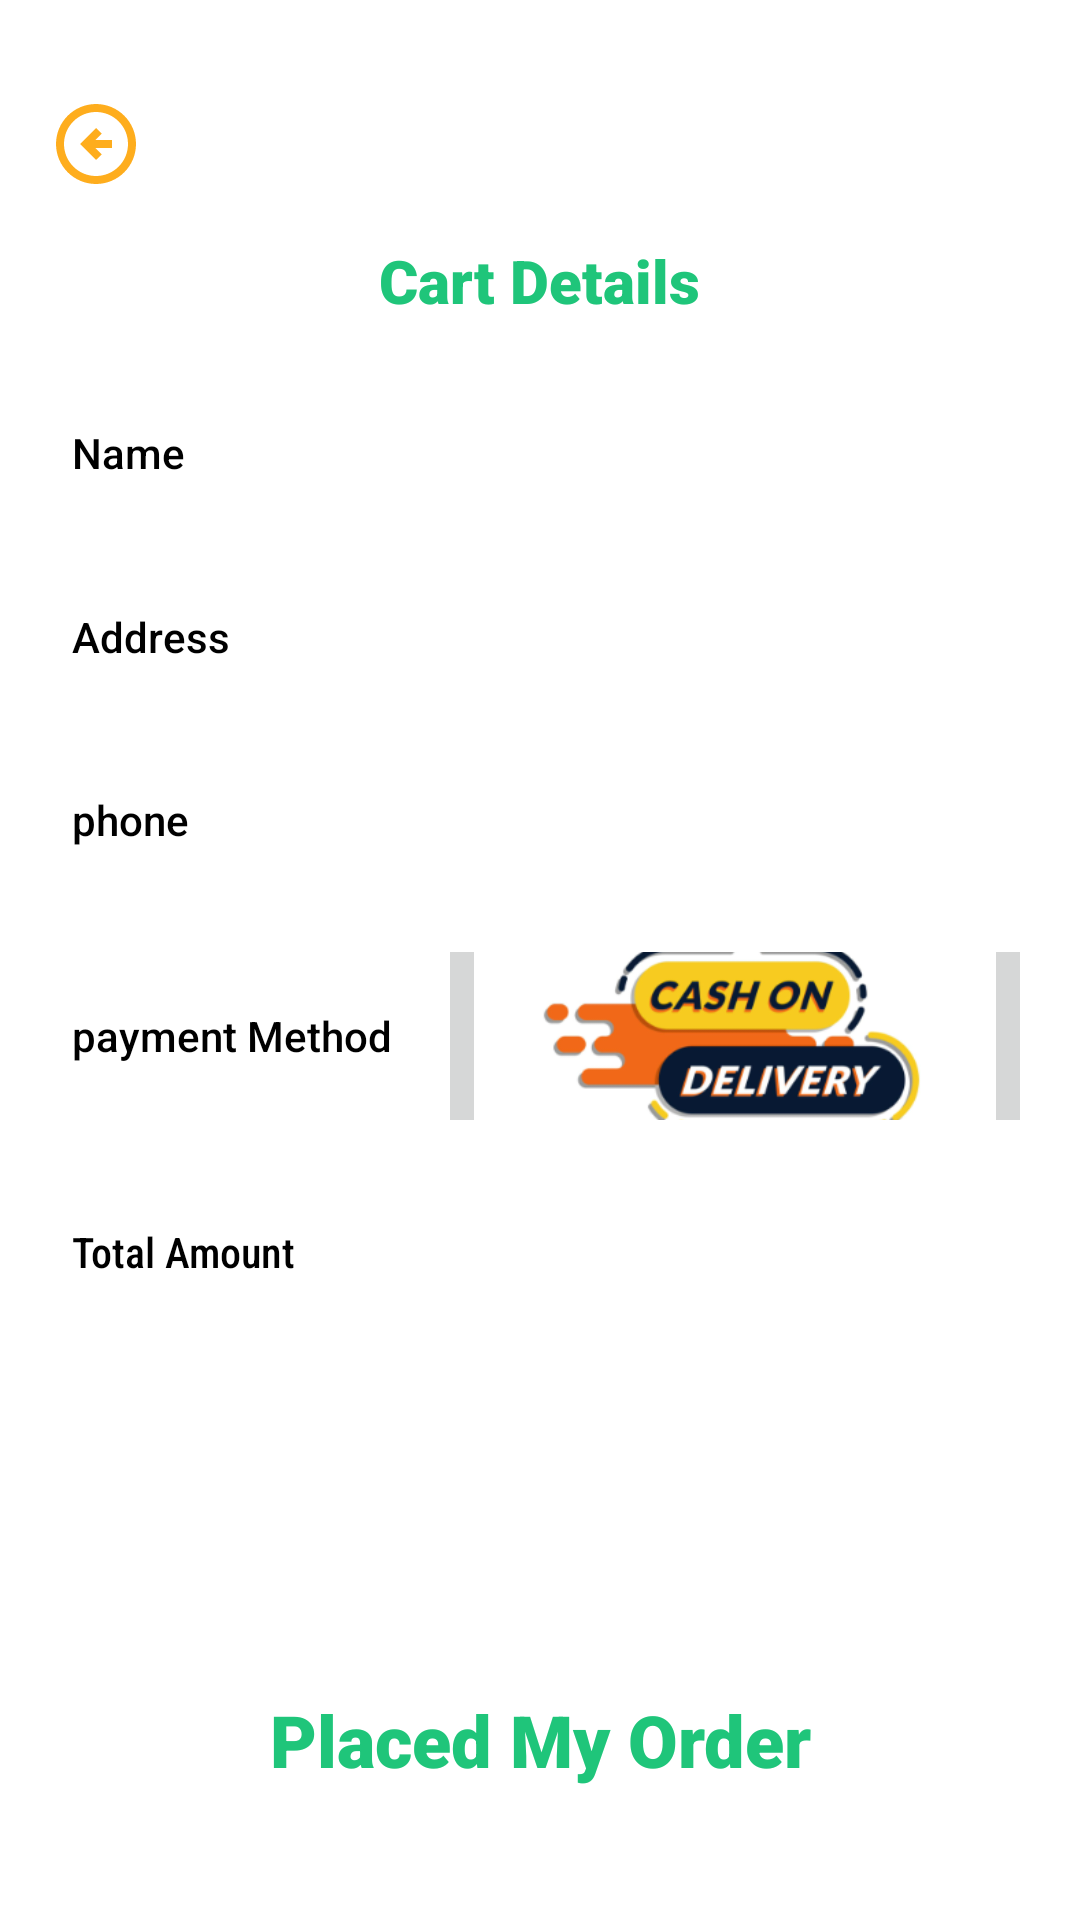

Icons on this 1080w x 1920h Android screen, each with the point to tap as point (x, y):
arrow circle left: point (96, 144)
